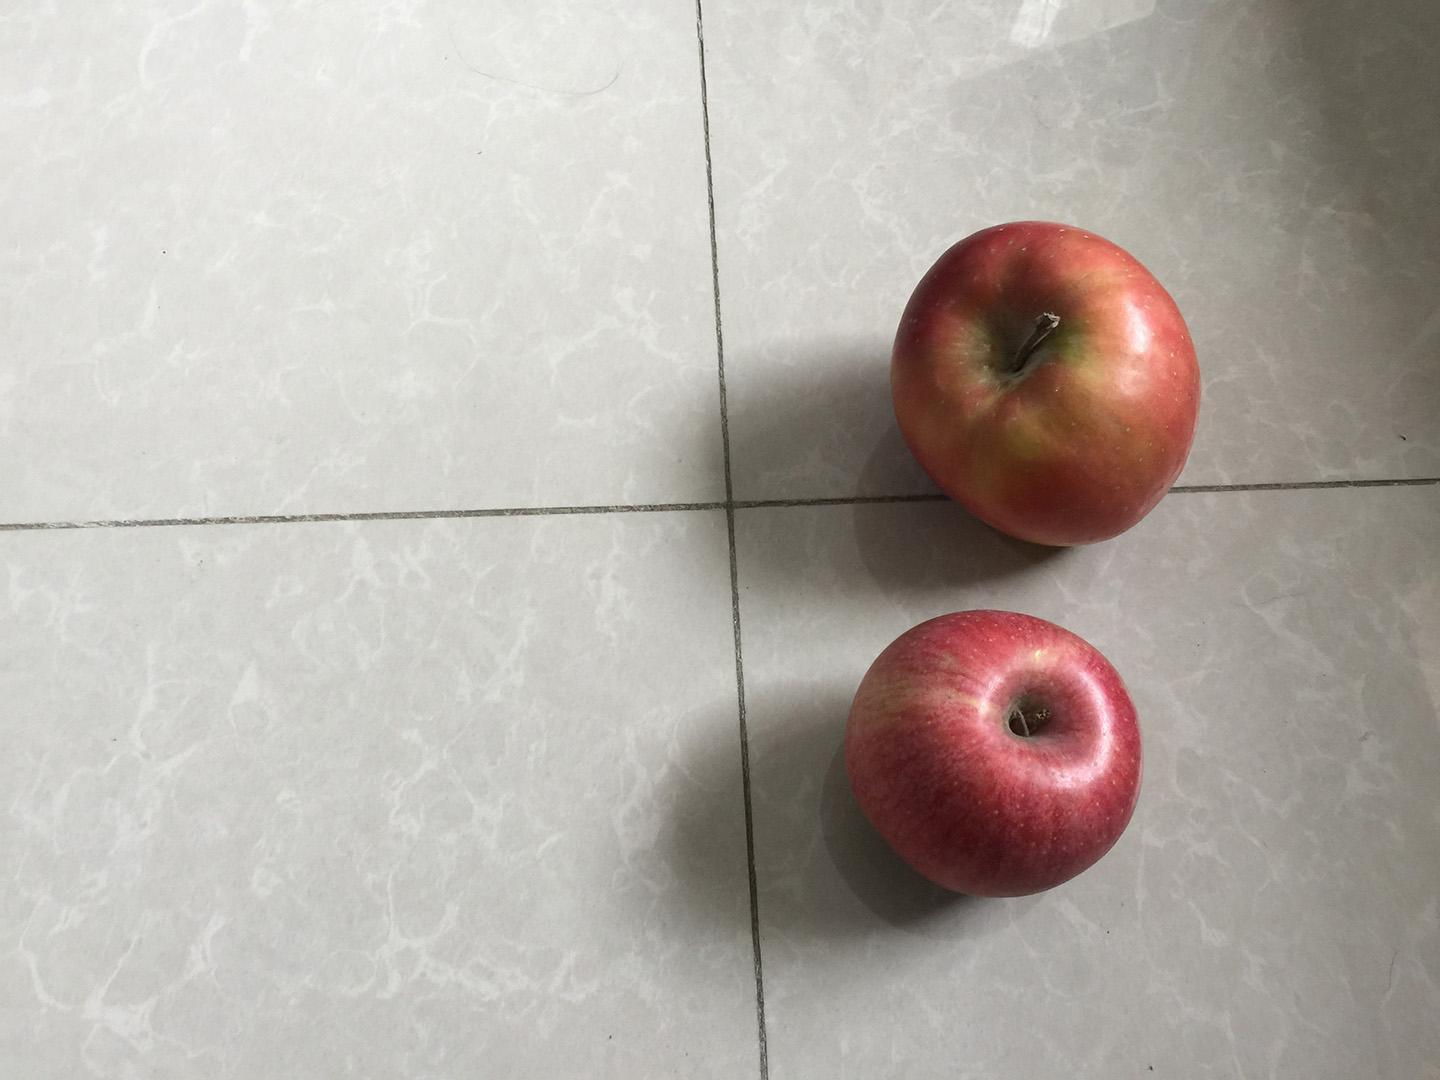apple: (884, 213, 1211, 551), (837, 604, 1152, 908)
